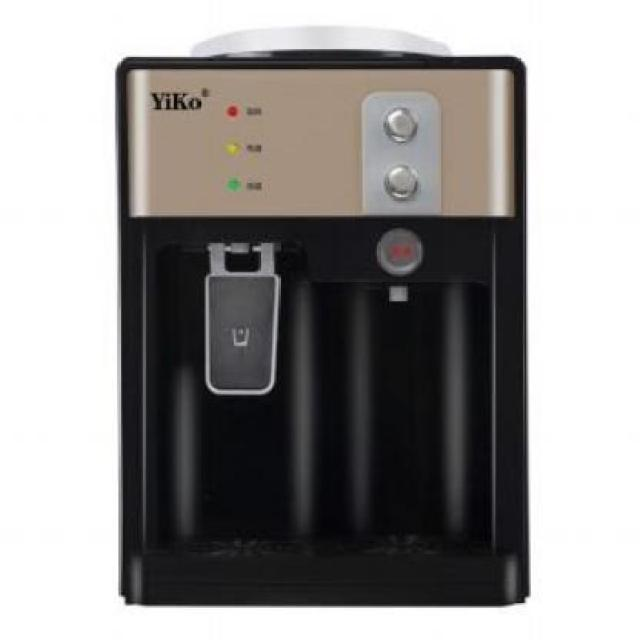cooler: (116, 22, 534, 613)
